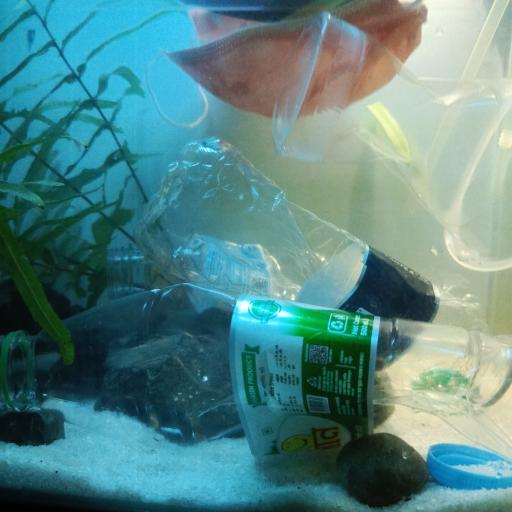bottle_cap: (428, 442, 512, 490), (414, 369, 480, 404)
mask: (144, 0, 430, 120)
plastic_bottle: (136, 137, 512, 408), (0, 284, 512, 459), (109, 238, 491, 341)
plastic_cup: (273, 11, 512, 271)
plastic_straw: (408, 0, 511, 210)
